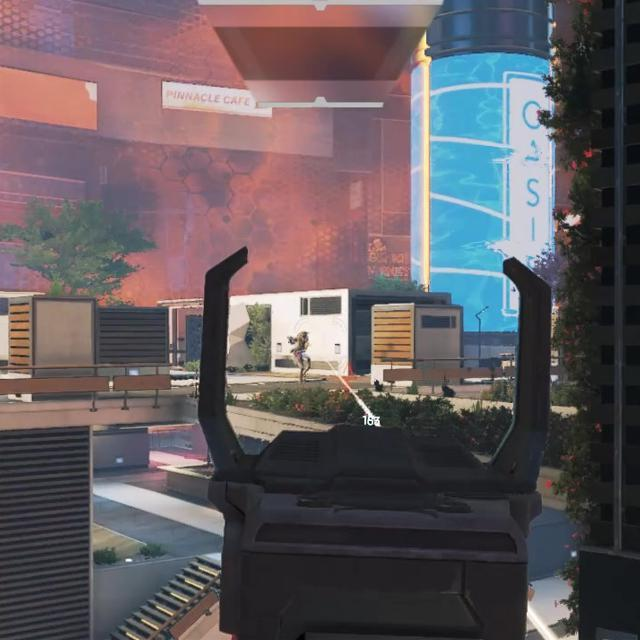avatar: (286, 329, 314, 383)
